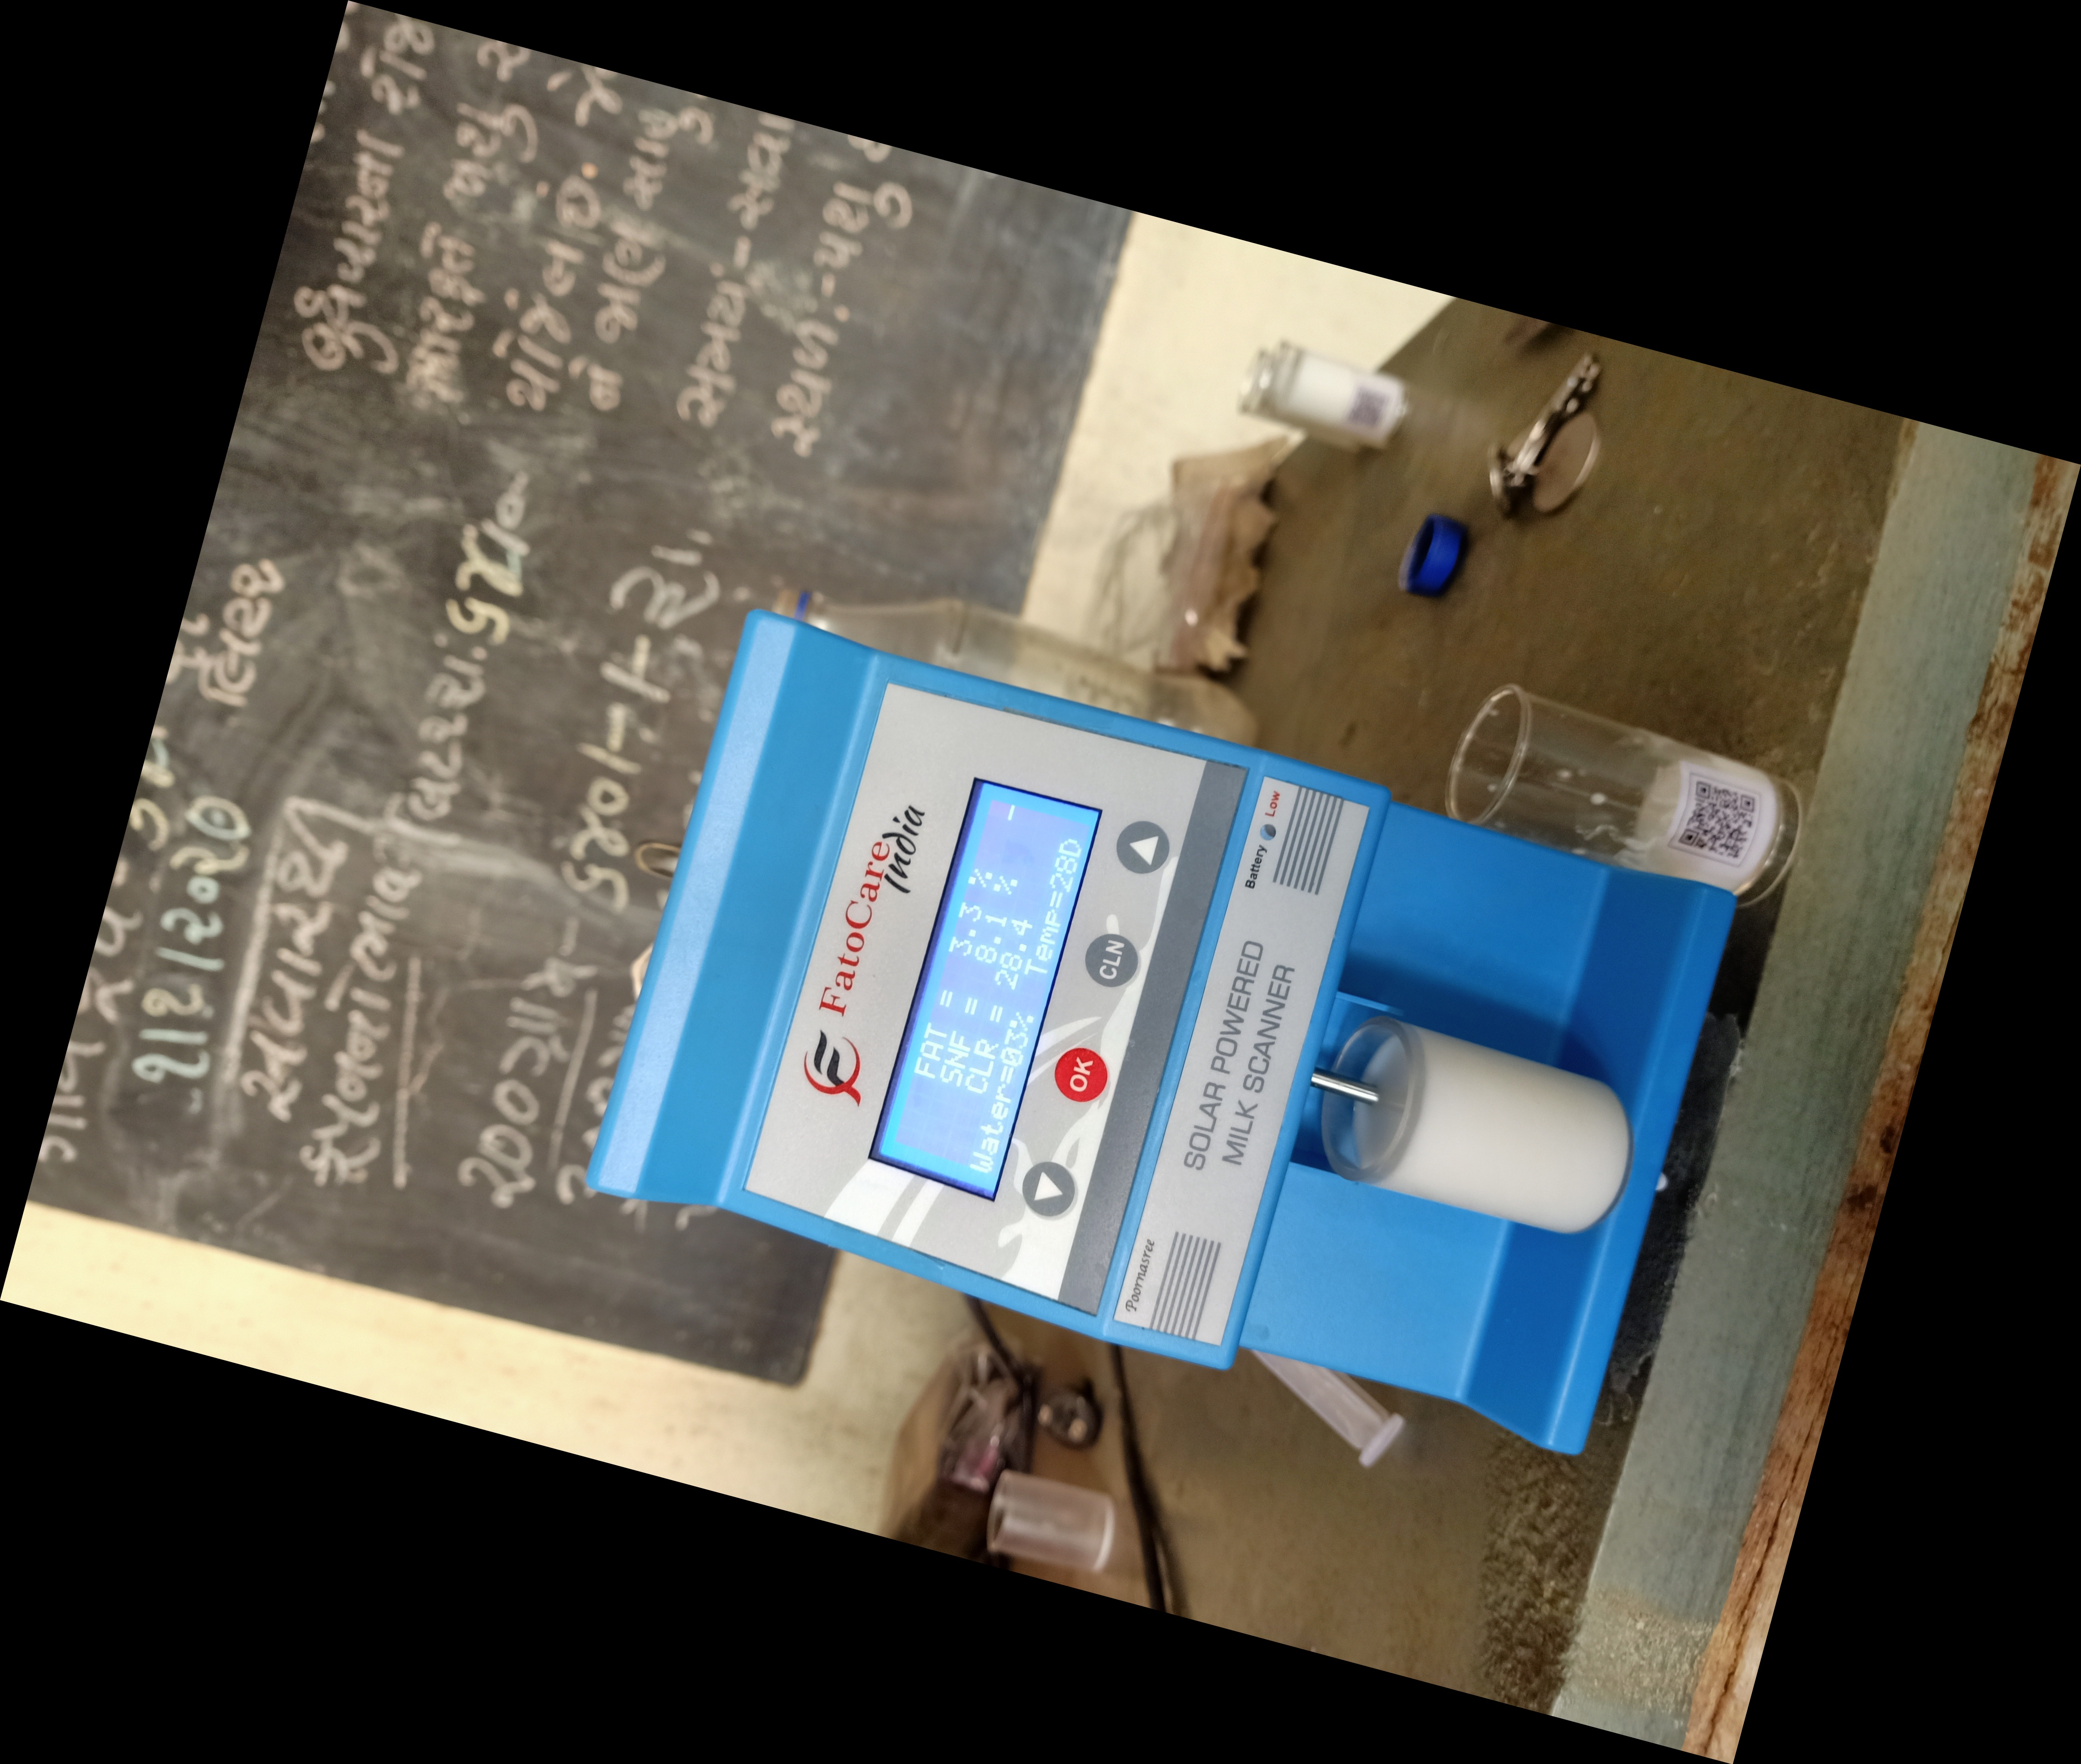lcd: (858, 770, 1134, 1221)
qr: (1670, 772, 1771, 882)
